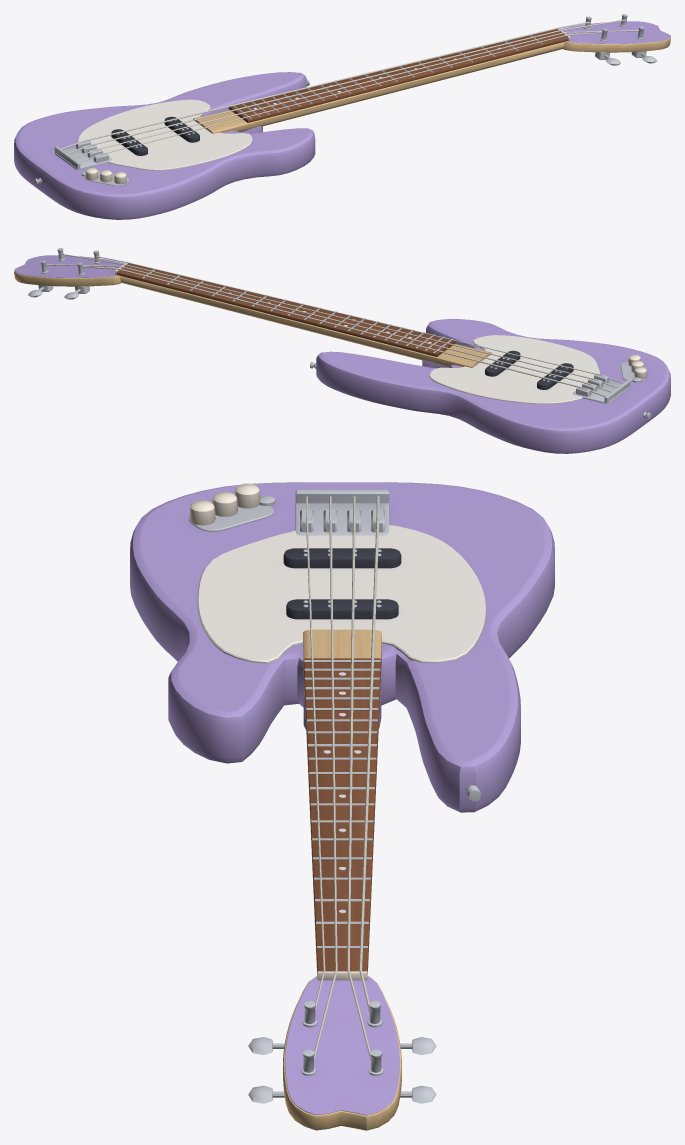
The model's file is bass-guitar.glb.
The picture shows the model from 3 angles, top to bottom: view 1: azimuth 30°, elevation 25°; view 2: azimuth 150°, elevation 25°; view 3: azimuth 270°, elevation 25°; orthographic projection. The views are drawn at different scales.
Parts seen in each view (by area): view 1: bass-guitar_body, bass-guitar_strings; view 2: bass-guitar_body, bass-guitar_strings; view 3: bass-guitar_body, bass-guitar_strings.
Part boxes in pixels (x1=…): bass-guitar_body: x1=14, y1=14, x2=670, y2=219; bass-guitar_strings: x1=61, y1=19, x2=638, y2=162; bass-guitar_body: x1=14, y1=248, x2=670, y2=453; bass-guitar_strings: x1=46, y1=253, x2=623, y2=396; bass-guitar_body: x1=130, y1=482, x2=554, y2=1130; bass-guitar_strings: x1=306, y1=495, x2=379, y2=1060.
Bounding box in the file's own units: 1.16 × 0.0631 × 0.3402.
2 materials, 1 textured.
